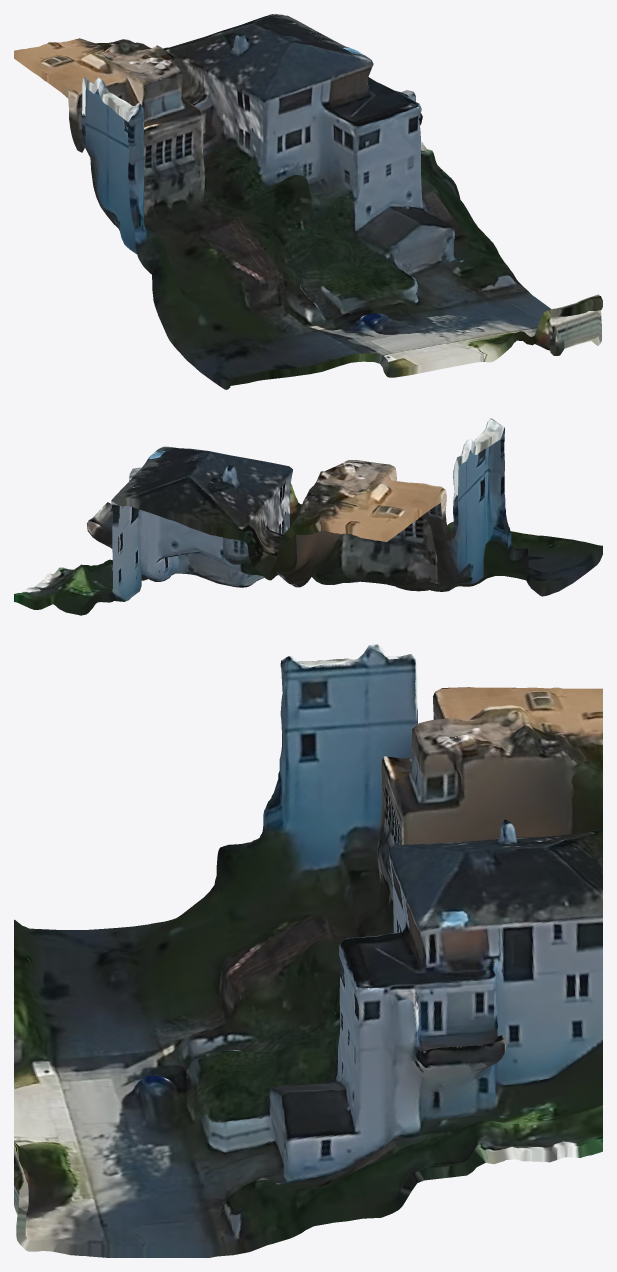
The model's file is z20-167716-405194-h0-yup-uvflip-v3-world.glb.
3 renders of one model, top to bottom at view 1: azimuth 30°, elevation 25°; view 2: azimuth 150°, elevation 25°; view 3: azimuth 270°, elevation 25°, orthographic. The views are drawn at different scales.
Size of the model in its own units: 30.16 by 20.88 by 30.32.
1 material, 1 textured.
